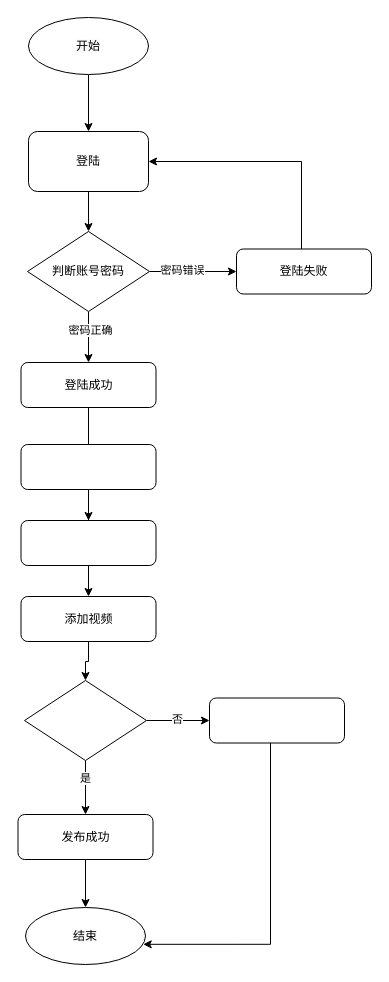
The diagram is 389 pixels wide and 982 high, and some of its shapes have lost their labels. Here are the shapes that lost their labels. From the top down, the box of each, then its label:
(20, 444, 156, 490): 添加课程
(20, 520, 156, 566): 添加章节
(24, 680, 146, 760): 是否发布
(208, 697, 344, 743): 未发布
